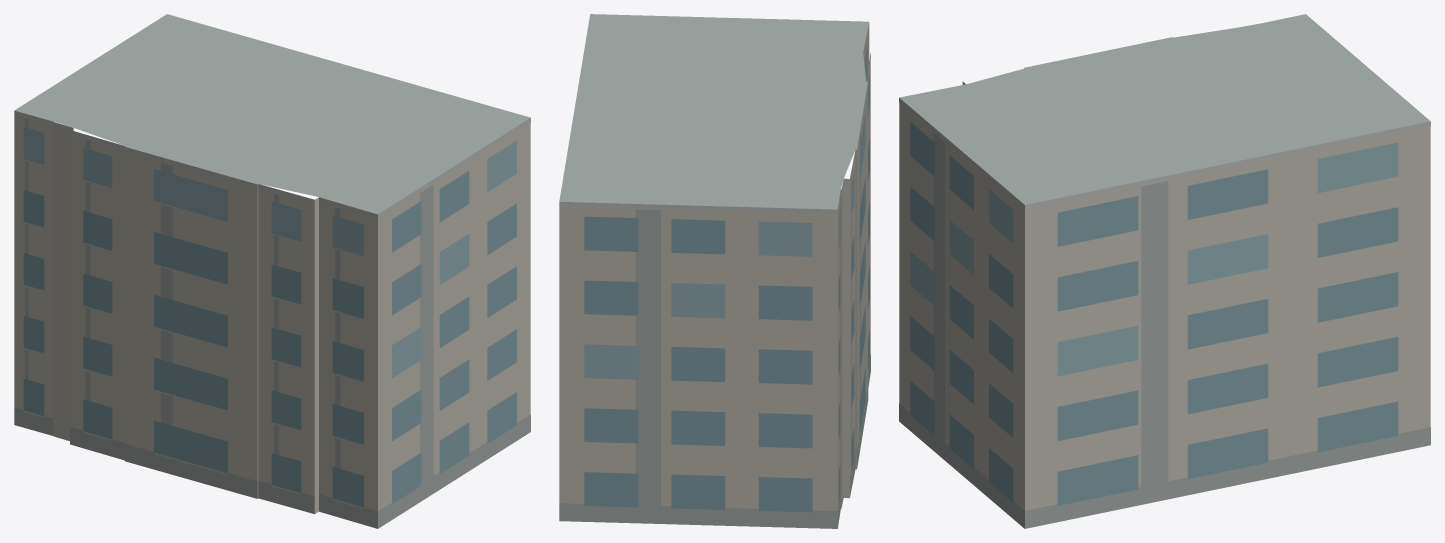
File: survey-upis-32831093.glb
3 views of the same model, side by side, from view 1: azimuth 30°, elevation 25°; view 2: azimuth 150°, elevation 25°; view 3: azimuth 270°, elevation 25° (orthographic). The views are drawn at different scales.
Parts seen in each view (by area): view 1: survey-upis-32831093.tmp; view 2: survey-upis-32831093.tmp; view 3: survey-upis-32831093.tmp.
Part boxes in pixels (x1,y1,x2,y2): survey-upis-32831093.tmp: (14,14,530,528); survey-upis-32831093.tmp: (559,14,870,528); survey-upis-32831093.tmp: (899,14,1430,528).
Bounding box in the file's own units: 18.23 × 14.4 × 21.43.
